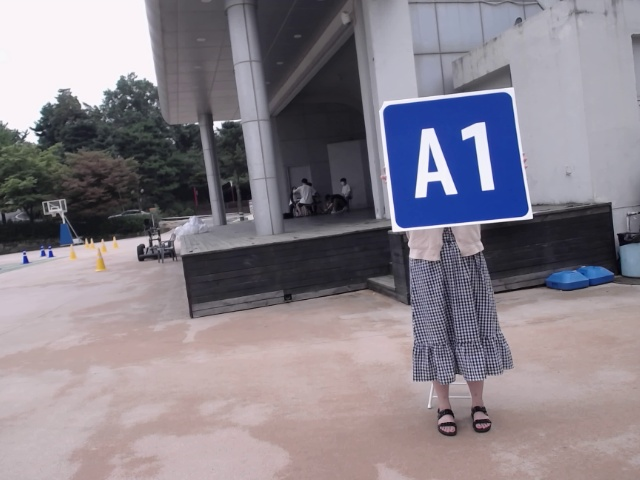delivery_a1: (381, 89, 531, 230)
